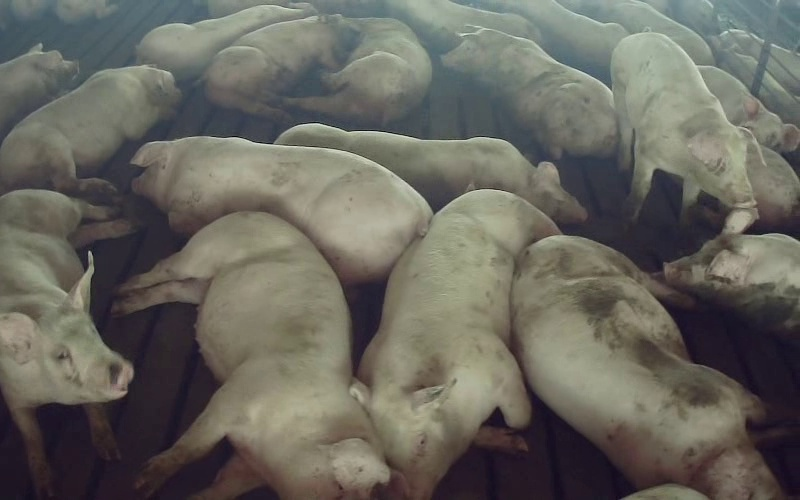pig: (113, 213, 388, 499), (512, 236, 783, 499), (352, 190, 558, 499), (275, 124, 586, 222), (611, 33, 754, 218), (0, 65, 181, 195), (442, 28, 616, 158), (664, 208, 799, 340), (204, 15, 357, 120), (286, 18, 430, 125), (136, 5, 310, 80), (0, 43, 78, 141)
